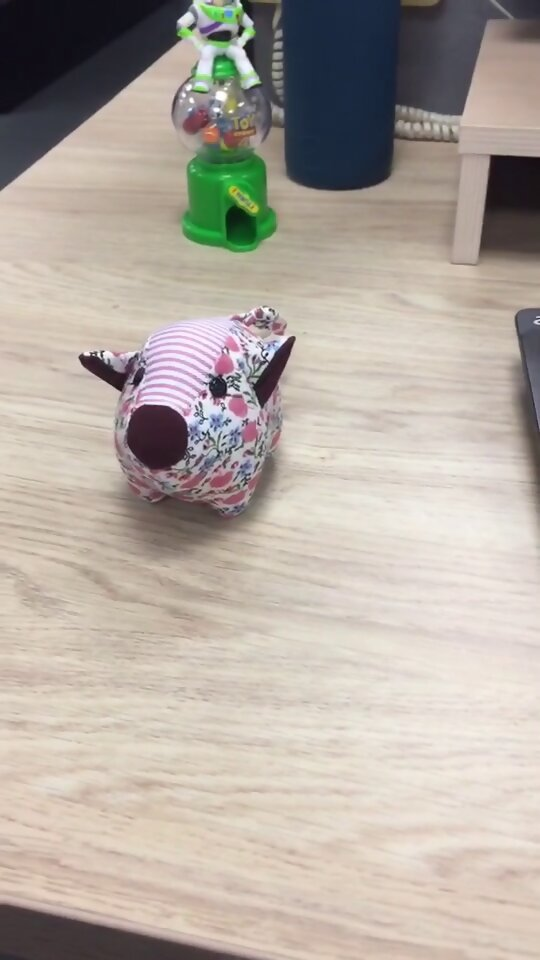pig: (74, 301, 301, 518)
